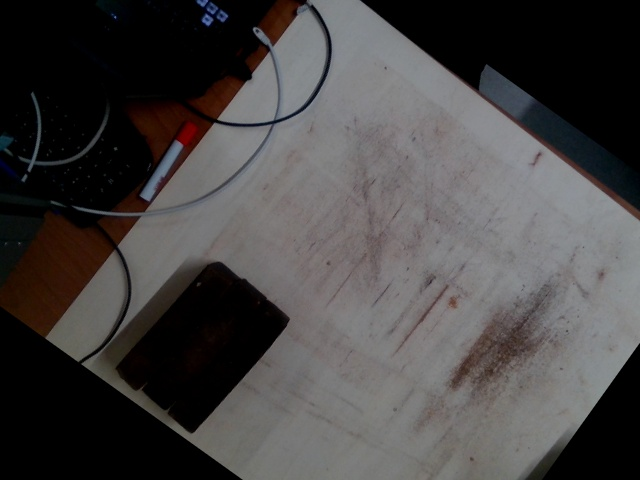brick-side: (170, 306, 287, 433), (114, 264, 231, 391), (144, 284, 261, 410)
